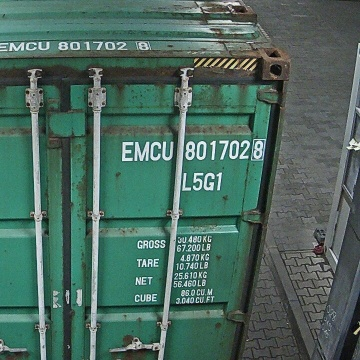serial_id: (122, 140, 264, 161)
